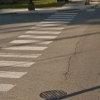Crosswalk: (5, 5, 41, 97)
